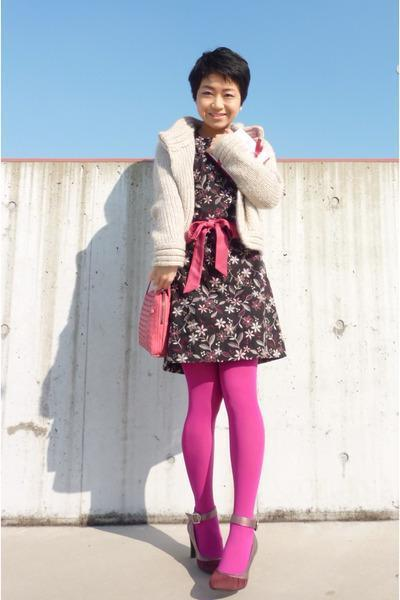dress: (149, 114, 286, 377)
jacket: (139, 117, 284, 279)
